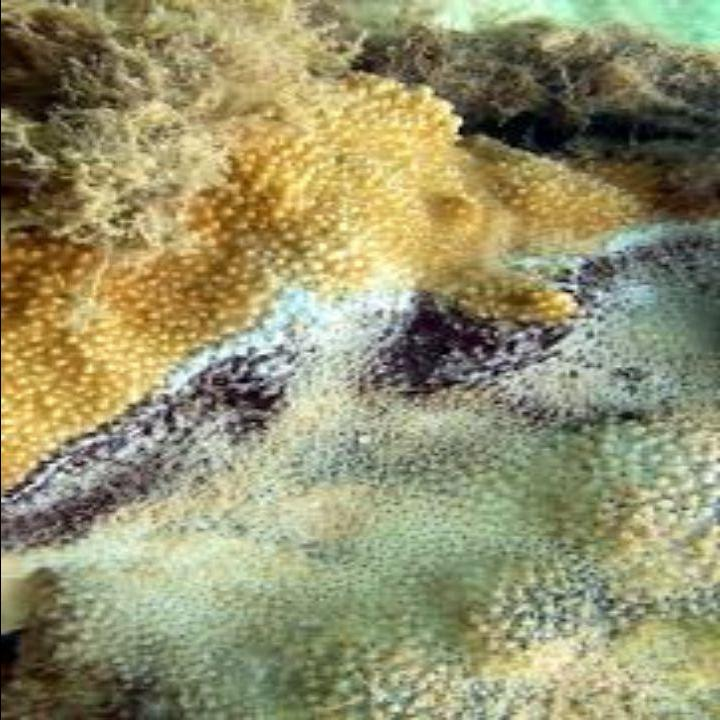Band disease: (0, 27, 720, 720), (0, 0, 219, 247)
